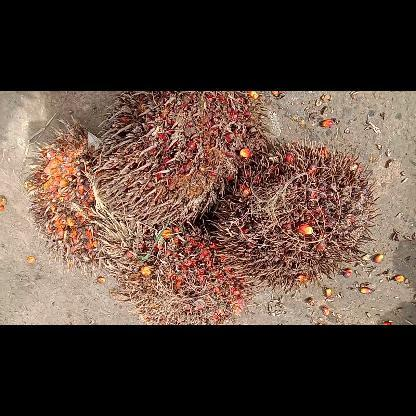Terlalu masak: (206, 140, 378, 290), (94, 91, 266, 225), (91, 207, 256, 324), (25, 117, 117, 273)
